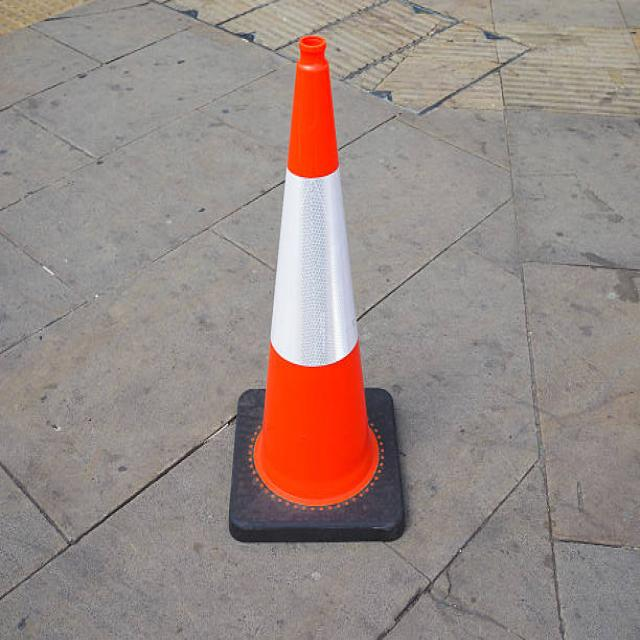Traffic Cone: (195, 16, 434, 568)
